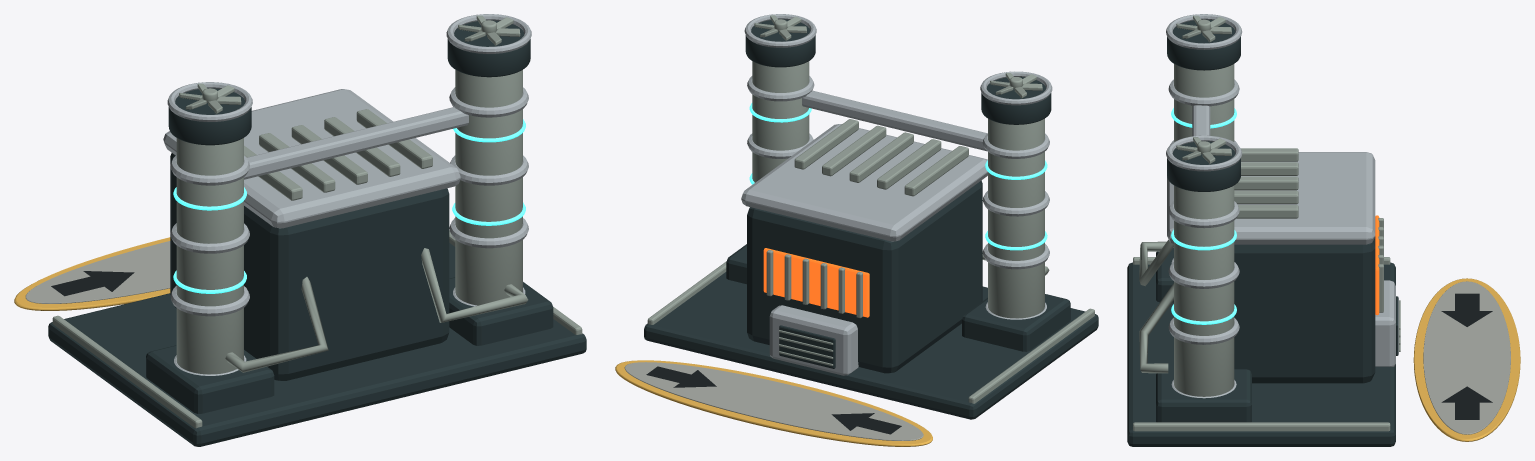
File: battlecity-factory.glb
The picture shows the model from 3 angles, left to right: view 1: azimuth 30°, elevation 25°; view 2: azimuth 150°, elevation 25°; view 3: azimuth 270°, elevation 25°; orthographic projection. The views are drawn at different scales.
Visible parts, largest first — view 1: DX dark machinery, Brushed steel, DX chrome, Pale stone apron, Command gold, Command glow, Lettering charcoal, Brushed steel Factory intake turbine 1, Brushed steel Factory intake turbine -1; view 2: DX dark machinery, DX chrome, Brushed steel, Pale stone apron, Command gold, Factory furnace glow, Lettering charcoal, Command glow, Brushed steel Factory intake turbine 1, Brushed steel Factory intake turbine -1; view 3: DX dark machinery, Brushed steel, DX chrome, Pale stone apron, Command gold, Lettering charcoal, Command glow, Brushed steel Factory intake turbine 1, Brushed steel Factory intake turbine -1, Factory furnace glow.
Boxes of the visible parts, box(x1,y1,x2,y2) form: DX dark machinery: box(48, 20, 586, 446); Brushed steel: box(52, 70, 582, 428); DX chrome: box(163, 14, 531, 375); Pale stone apron: box(25, 241, 170, 303); Command gold: box(14, 237, 170, 310); Command glow: box(173, 119, 525, 293); Lettering charcoal: box(51, 271, 134, 296); Brushed steel Factory intake turbine 1: box(458, 15, 520, 45); Brushed steel Factory intake turbine -1: box(179, 83, 241, 113); DX dark machinery: box(644, 19, 1098, 419); DX chrome: box(741, 14, 1052, 375); Brushed steel: box(647, 61, 1094, 403); Pale stone apron: box(624, 362, 923, 440); Command gold: box(615, 360, 932, 446); Factory furnace glow: box(763, 248, 869, 317); Lettering charcoal: box(646, 366, 901, 434); Command glow: box(749, 103, 1047, 250); Brushed steel Factory intake turbine 1: box(754, 15, 806, 40); Brushed steel Factory intake turbine -1: box(990, 73, 1042, 98); DX dark machinery: box(1127, 19, 1398, 446); Brushed steel: box(1133, 64, 1400, 431); DX chrome: box(1166, 14, 1395, 398); Pale stone apron: box(1423, 281, 1510, 434); Command gold: box(1413, 278, 1520, 441); Lettering charcoal: box(1441, 293, 1492, 419); Command glow: box(1171, 108, 1236, 324); Brushed steel Factory intake turbine 1: box(1176, 137, 1231, 163); Brushed steel Factory intake turbine -1: box(1176, 15, 1231, 42); Factory furnace glow: box(1375, 215, 1379, 315).
Bounding box in the file's own units: 2.96 × 2.26 × 2.87.
